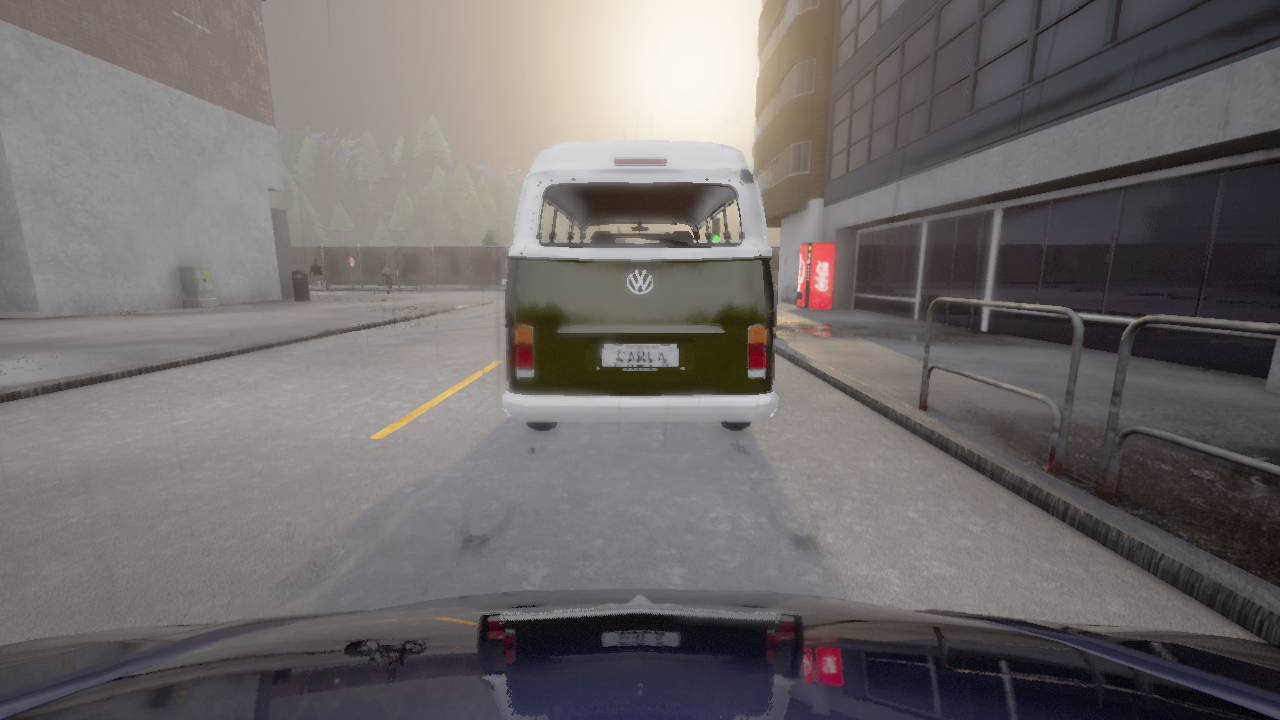cyclist: (0, 588, 1279, 719), (502, 140, 779, 430)
pedestrian: (309, 257, 324, 295), (313, 275, 324, 302), (383, 263, 392, 292)
